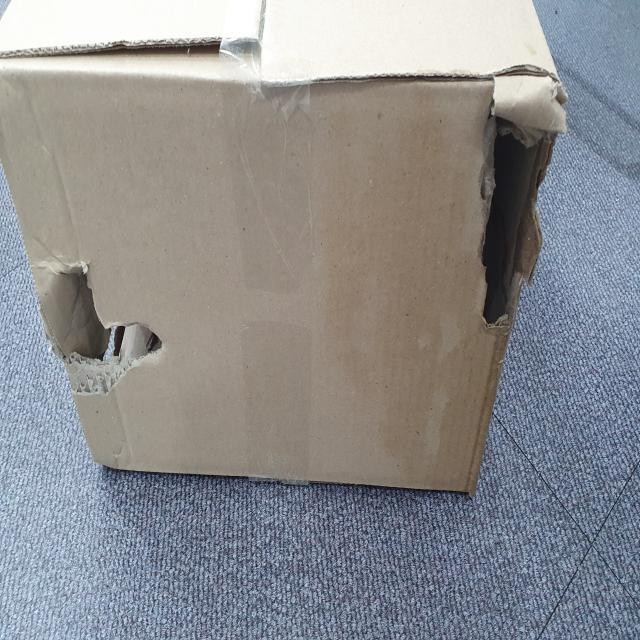hole: (476, 79, 554, 341), (50, 248, 170, 409)
